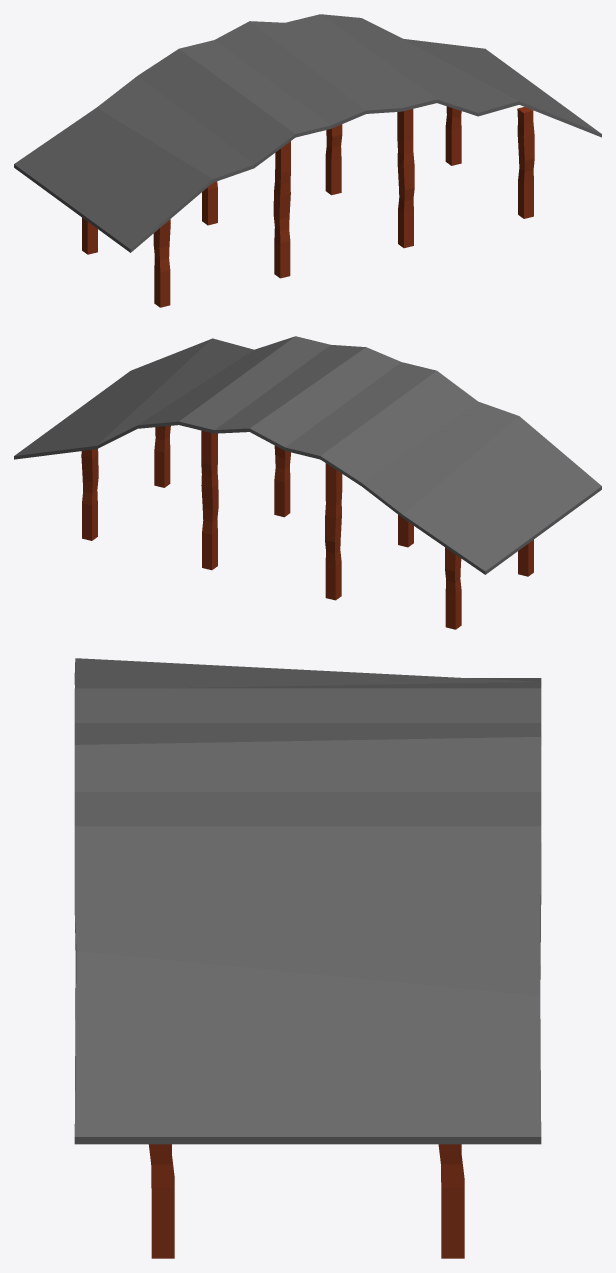
Rendered from techo.fbx.
The picture shows the model from 3 angles, top to bottom: view 1: azimuth 30°, elevation 25°; view 2: azimuth 150°, elevation 25°; view 3: azimuth 270°, elevation 25°; orthographic projection. The views are drawn at different scales.
Parts seen in each view (by area): view 1: Cube.001, Cube.003; view 2: Cube.001, Cube.003; view 3: Cube.001, Cube.003.
Part boxes in pixels (x1,y1,x2,y2): Cube.001: (14, 14, 601, 252); Cube.003: (82, 106, 534, 307); Cube.001: (14, 336, 601, 574); Cube.003: (81, 426, 533, 629); Cube.001: (74, 658, 541, 1144); Cube.003: (148, 1144, 464, 1258).
Size of the model in its own units: 2800 by 964 by 1200.
